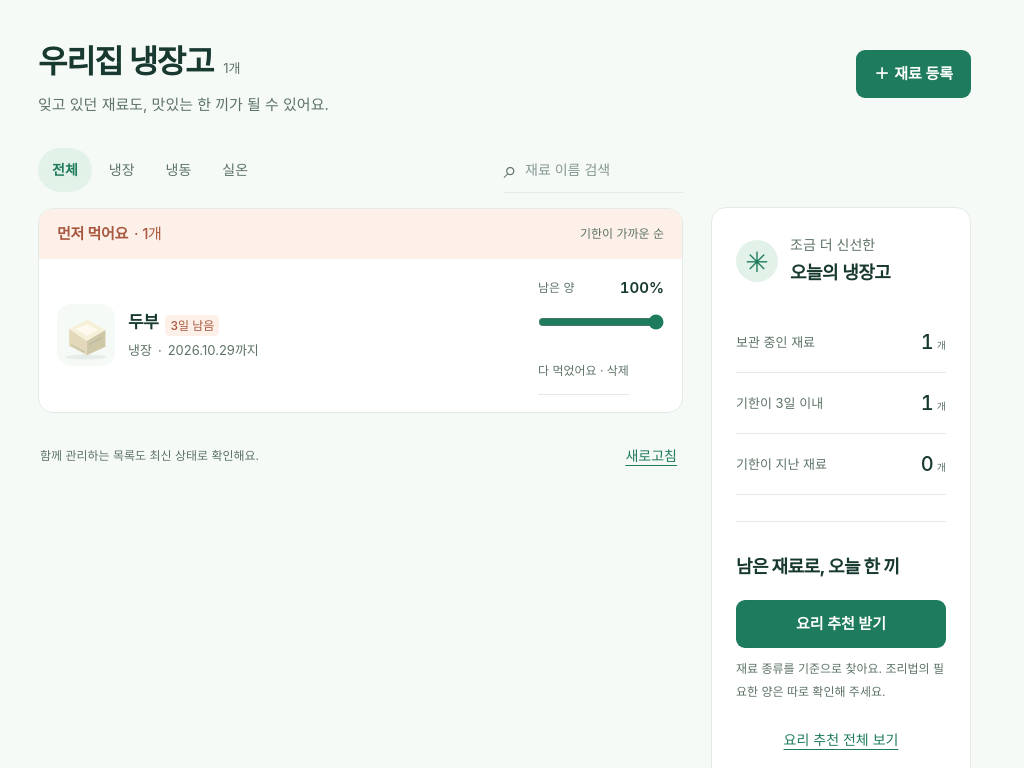
Test case: inventory controls with real hook and HTTP boundary › keeps_unsaved_edit_fields_when_a_conflict_arrives
The image size is (1024, 768).
Click the button with aria-label "두부 수정": point(86, 335) [57,300,524,370]
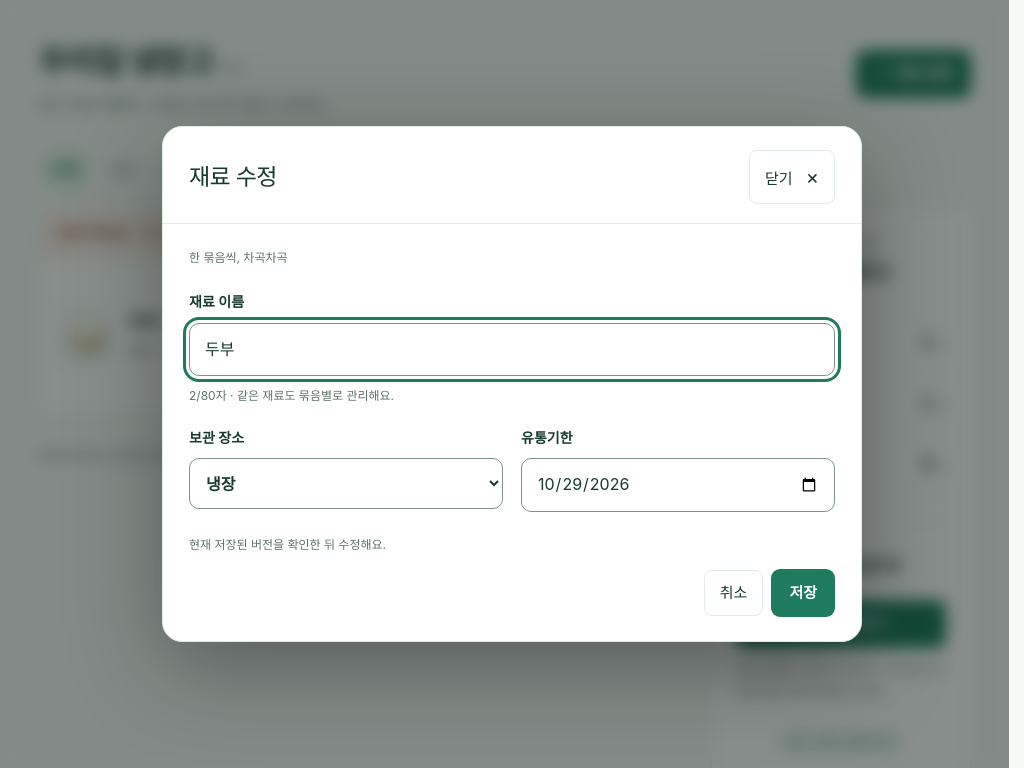
Replace the text in the field labelled "재료 이름" with "내가 손질한 두부": point(512, 349) [189,323,835,376]
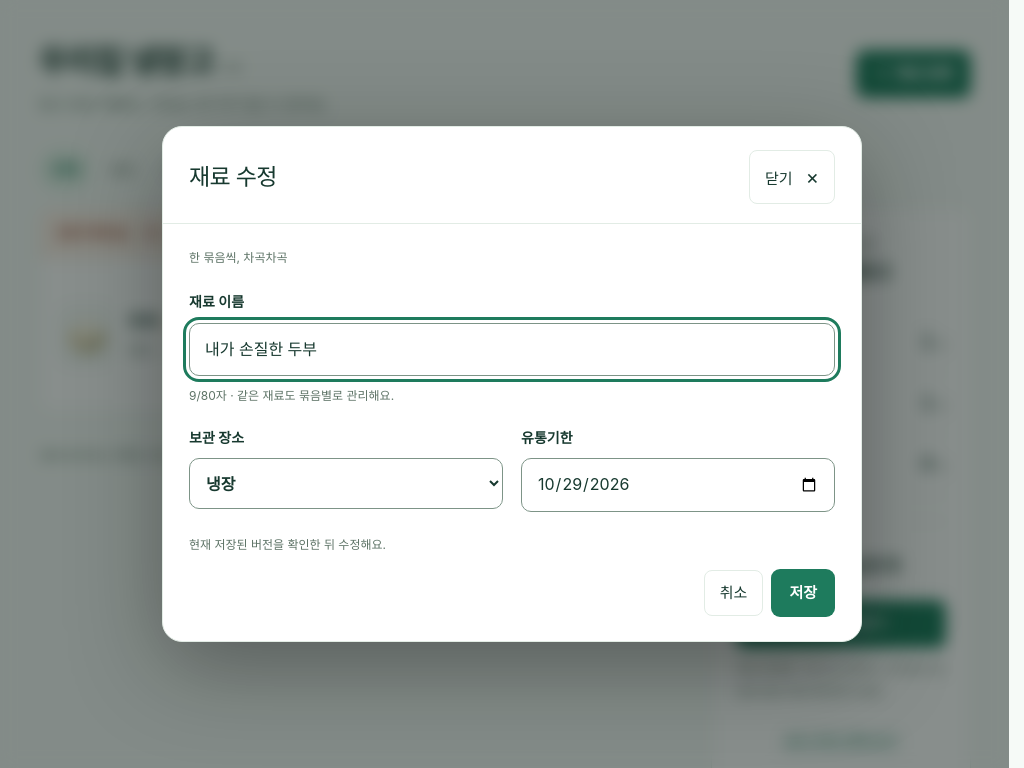
Submit the form named "재료 수정", box [189,271,835,617]
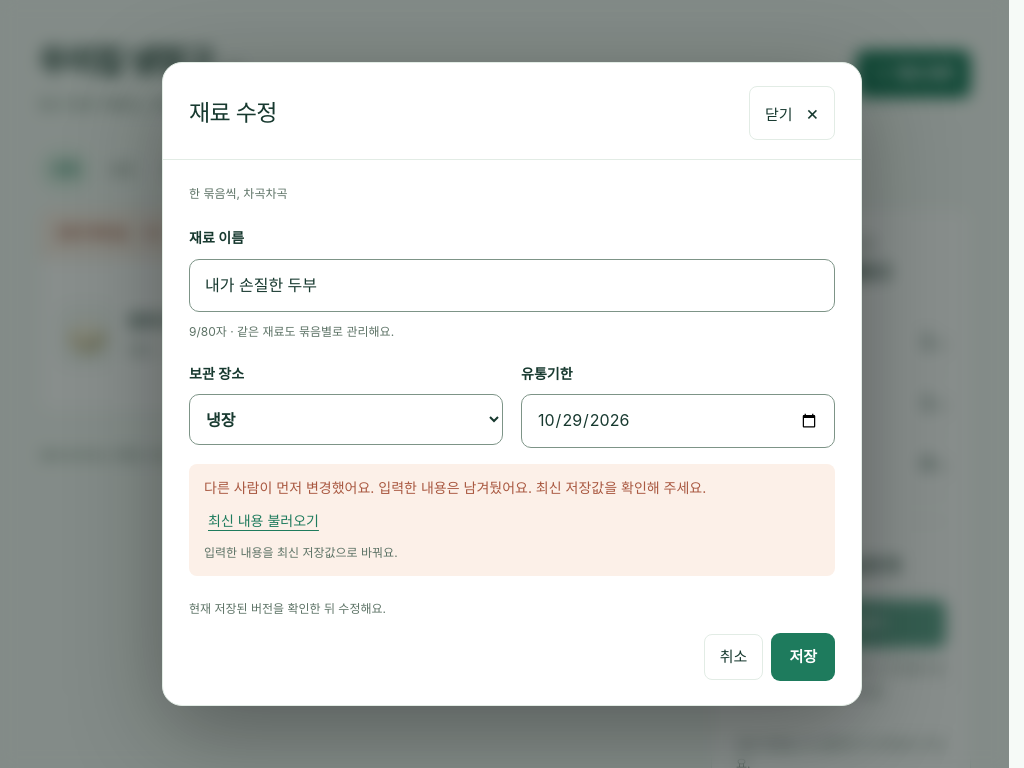
Now the message "다른 사람이 먼저 변경했어요. 입력한 내용은 남겨뒀어요. 최신 저장값을 확인해 주세요." is shown, box [204,479,706,496]
Click the button "최신 내용 불러오기": point(263, 521) [204,499,323,543]
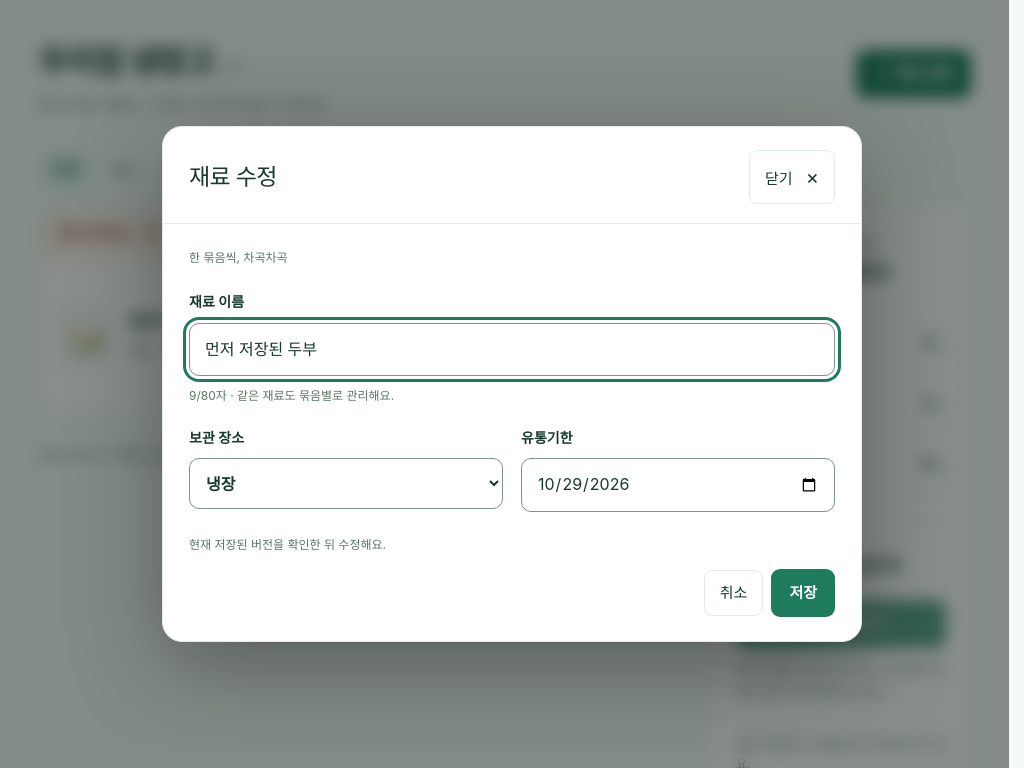
Now the field labelled "재료 이름" holds "먼저 저장된 두부", box [189,323,835,376]
